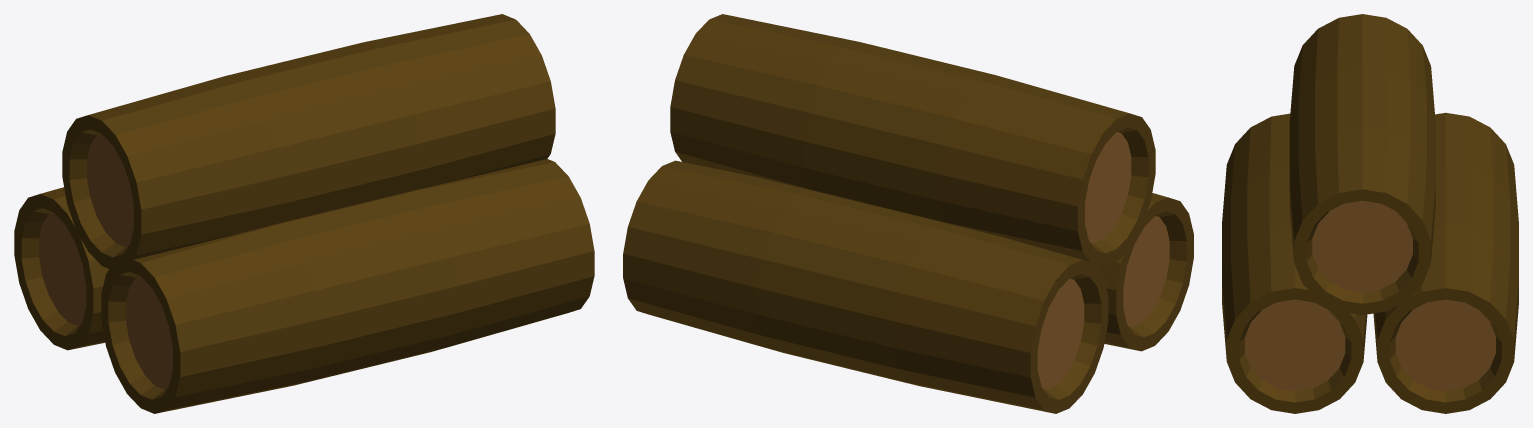
The model's file is Wood_2.fbx.
3 views of the same model, side by side, from view 1: azimuth 30°, elevation 25°; view 2: azimuth 150°, elevation 25°; view 3: azimuth 270°, elevation 25° (orthographic). The views are drawn at different scales.
Visible parts, largest first — view 1: Wood_2; view 2: Wood_2; view 3: Wood_2.
Boxes of the visible parts, box(x1,y1,x2,y2) form: Wood_2: box(14, 14, 594, 413); Wood_2: box(623, 14, 1193, 413); Wood_2: box(1222, 14, 1518, 413).
Size of the model in its own units: 0.2475 by 0.1536 by 0.1771.
